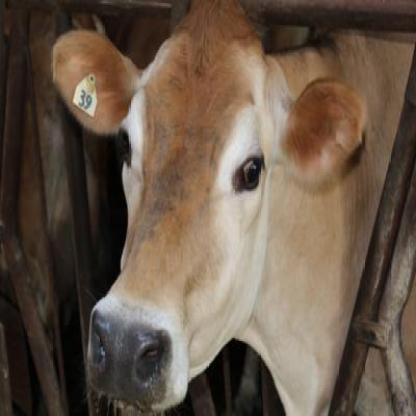lower: (116, 399, 141, 414)
mouth: (86, 304, 190, 416)
upper: (104, 331, 138, 362)
